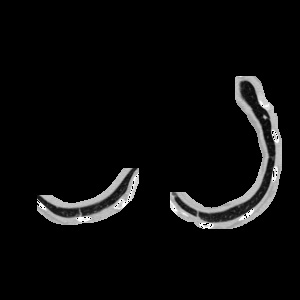PN: (262, 113, 268, 119)
